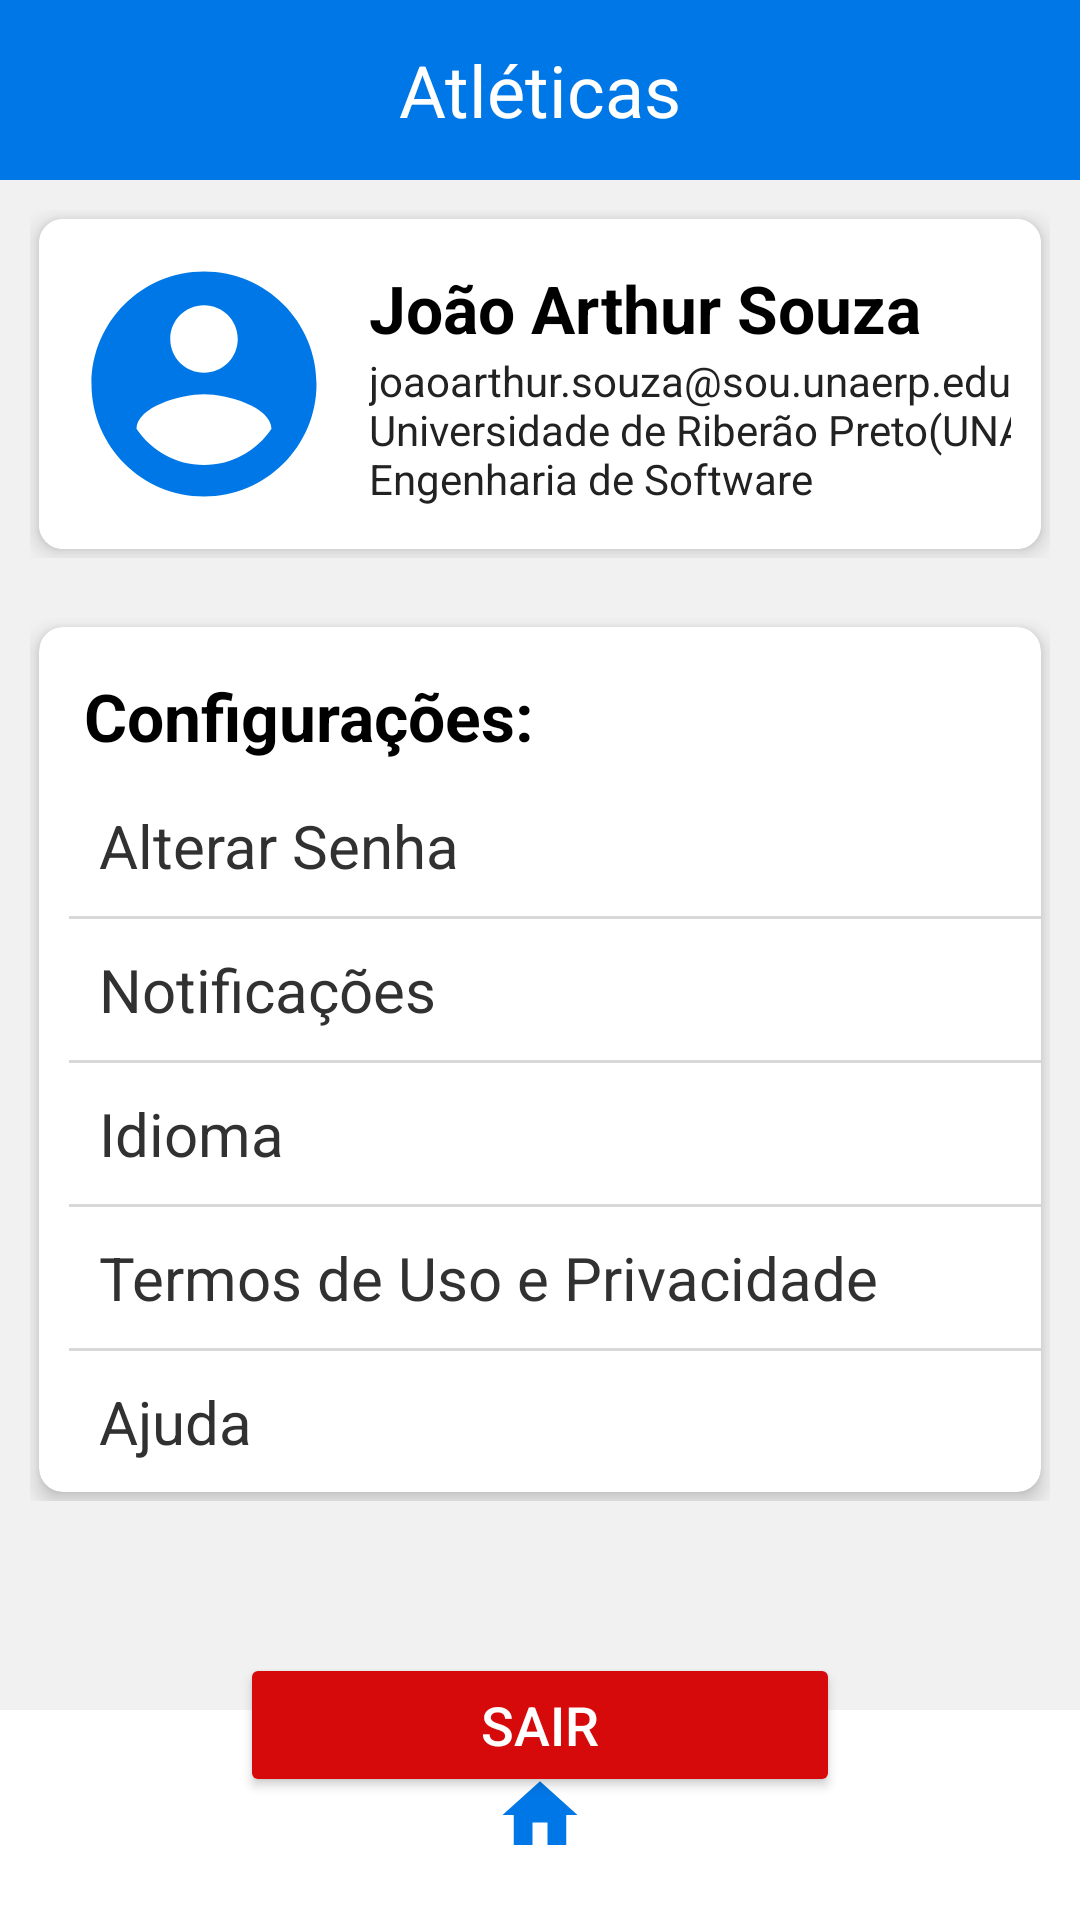

Icons on this 1080px x 1920px Android screen, each with the point to tap as [x,y]:
account circle: [204,384]
